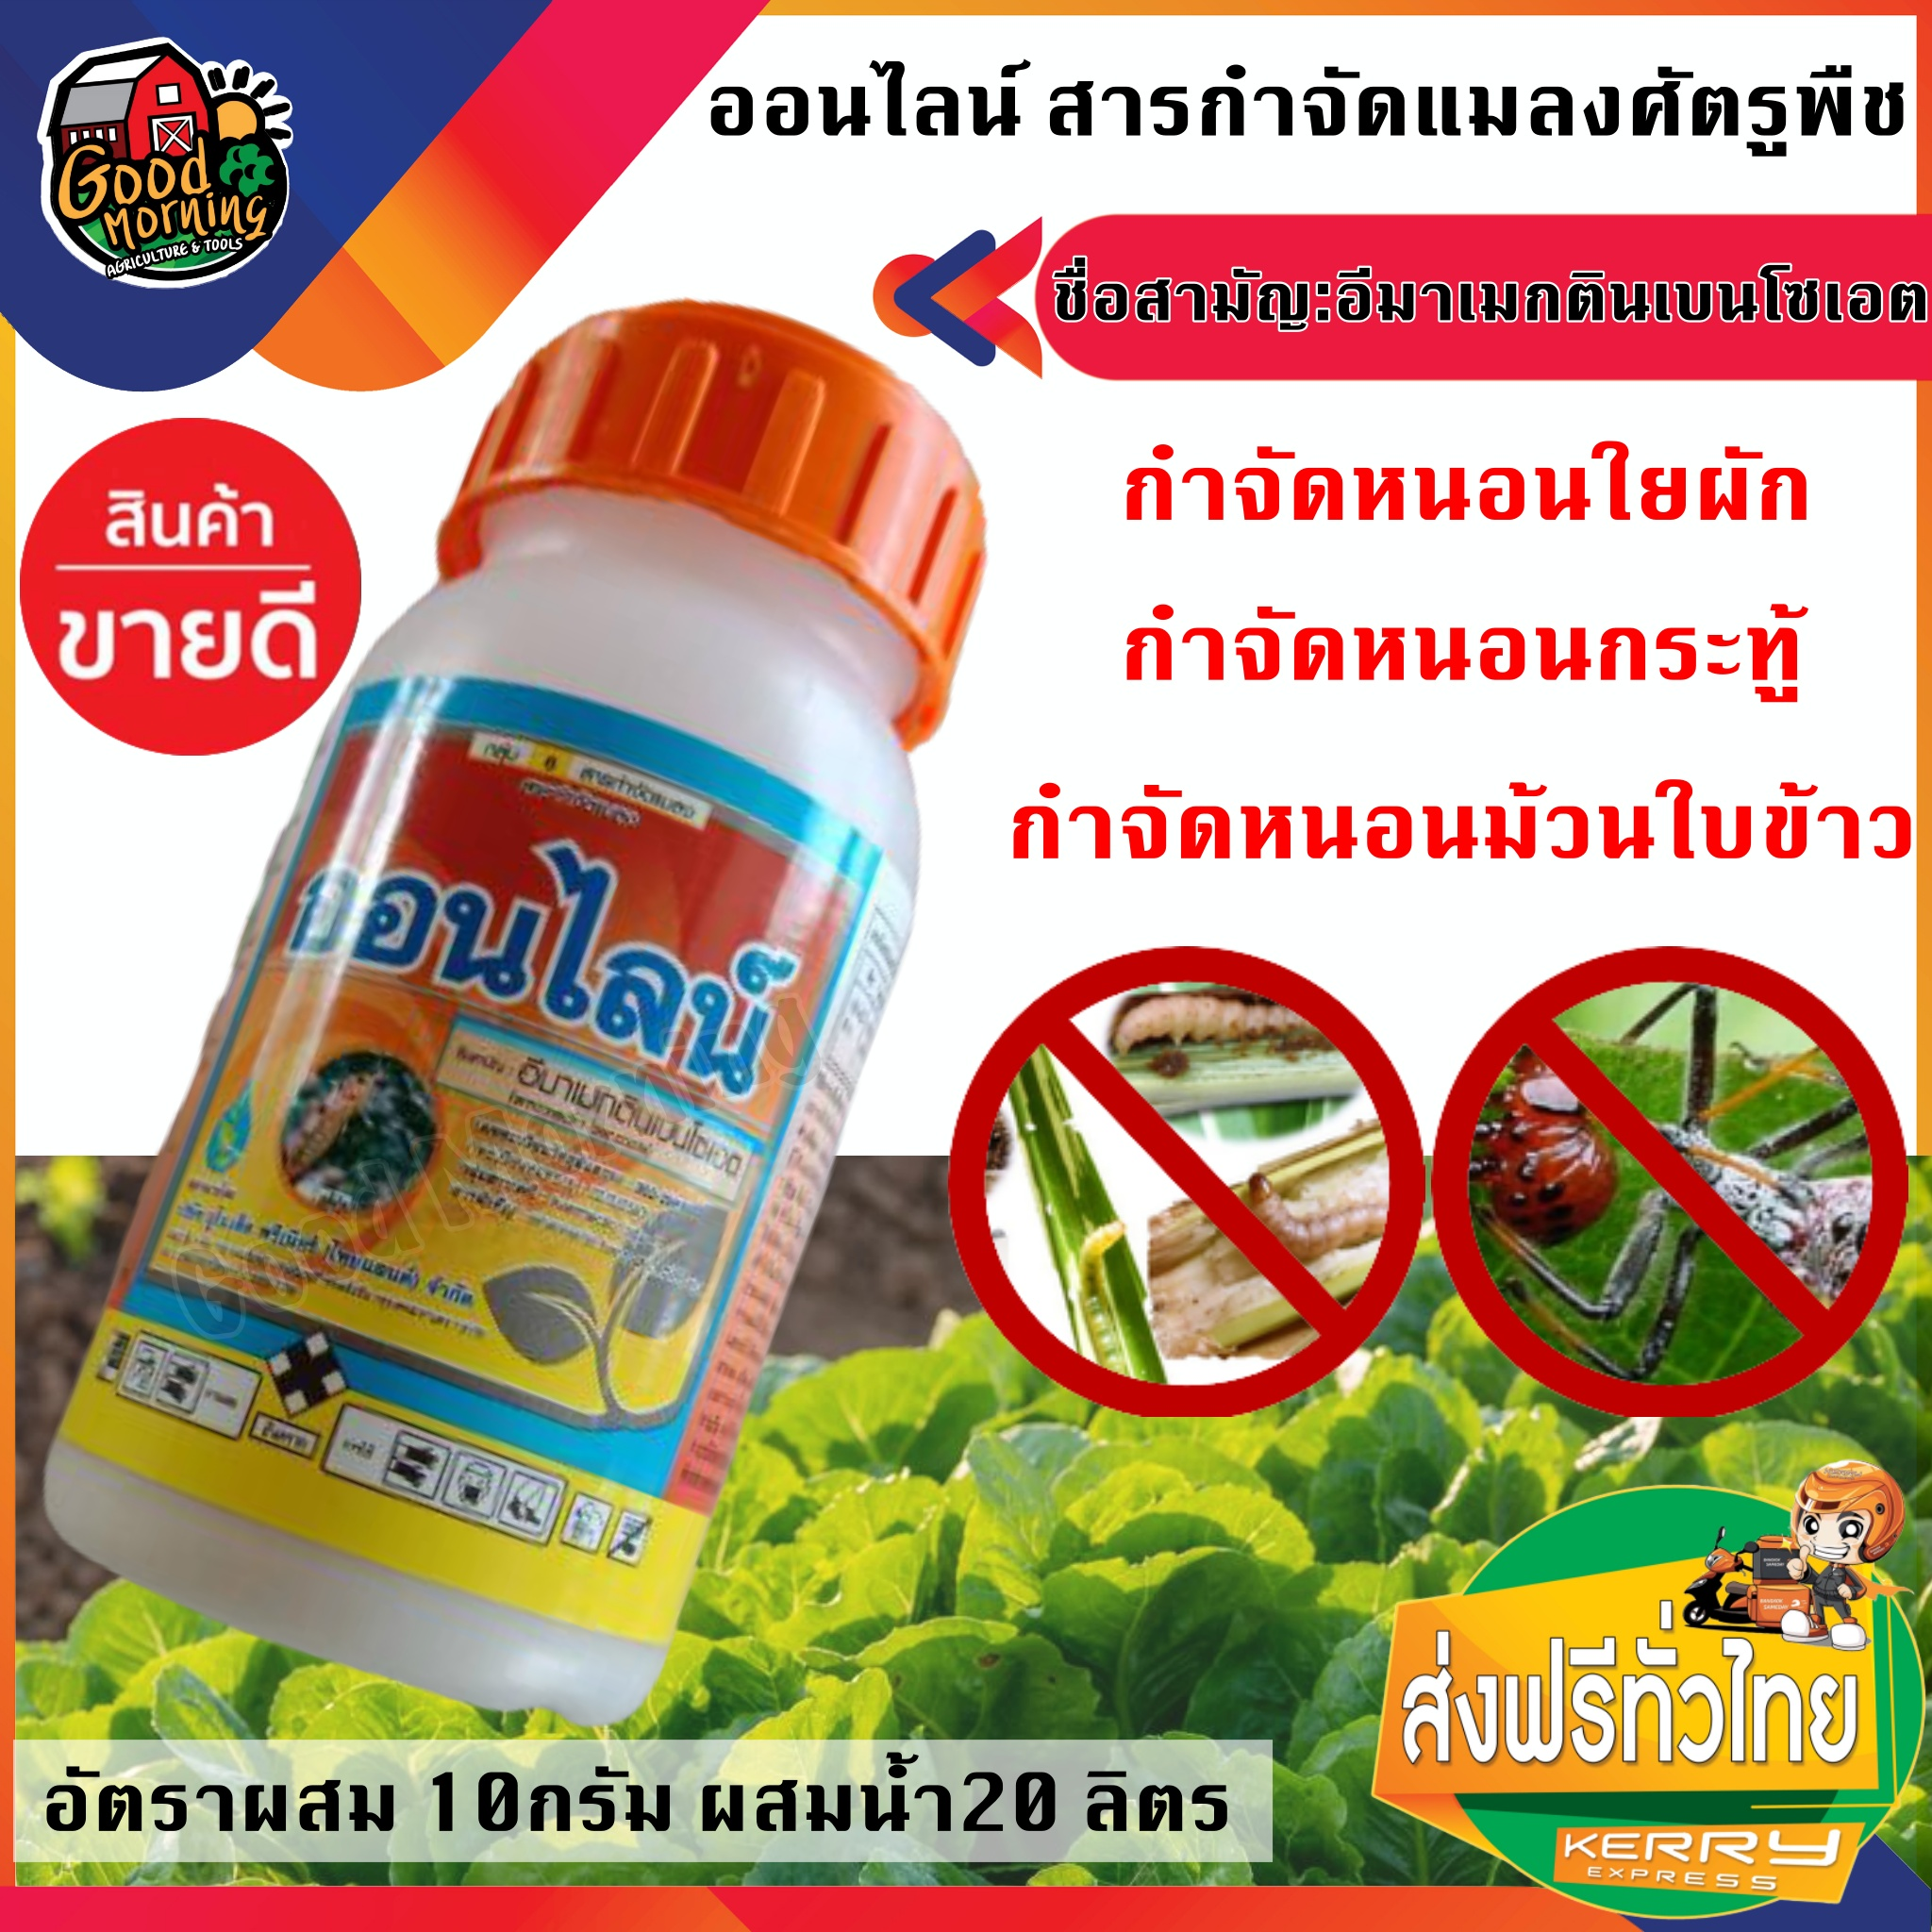Insecticide: (30, 278, 996, 1736)
